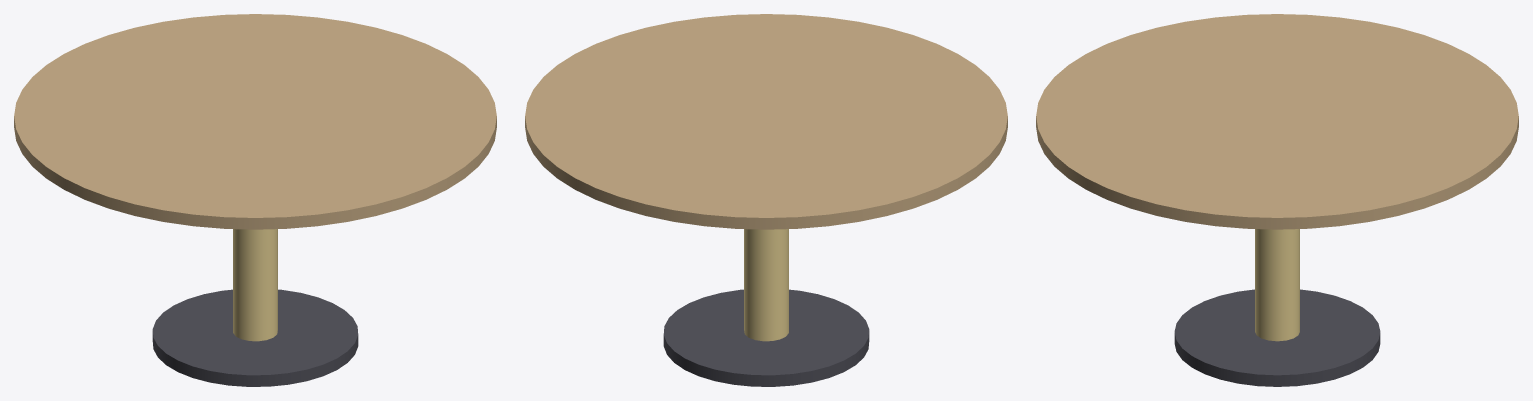
The model's file is bb_set_roundtable.fbx.
3 renders of one model, left to right at view 1: azimuth 30°, elevation 25°; view 2: azimuth 150°, elevation 25°; view 3: azimuth 270°, elevation 25°, orthographic.
Visible parts, largest first — view 1: bb_set_roundtable; view 2: bb_set_roundtable; view 3: bb_set_roundtable.
Boxes of the visible parts, x1=… form: bb_set_roundtable: x1=14, y1=14, x2=496, y2=386; bb_set_roundtable: x1=525, y1=14, x2=1007, y2=386; bb_set_roundtable: x1=1036, y1=14, x2=1518, y2=386.
Bounding box in the file's own units: 1.5 × 0.78 × 1.5.
